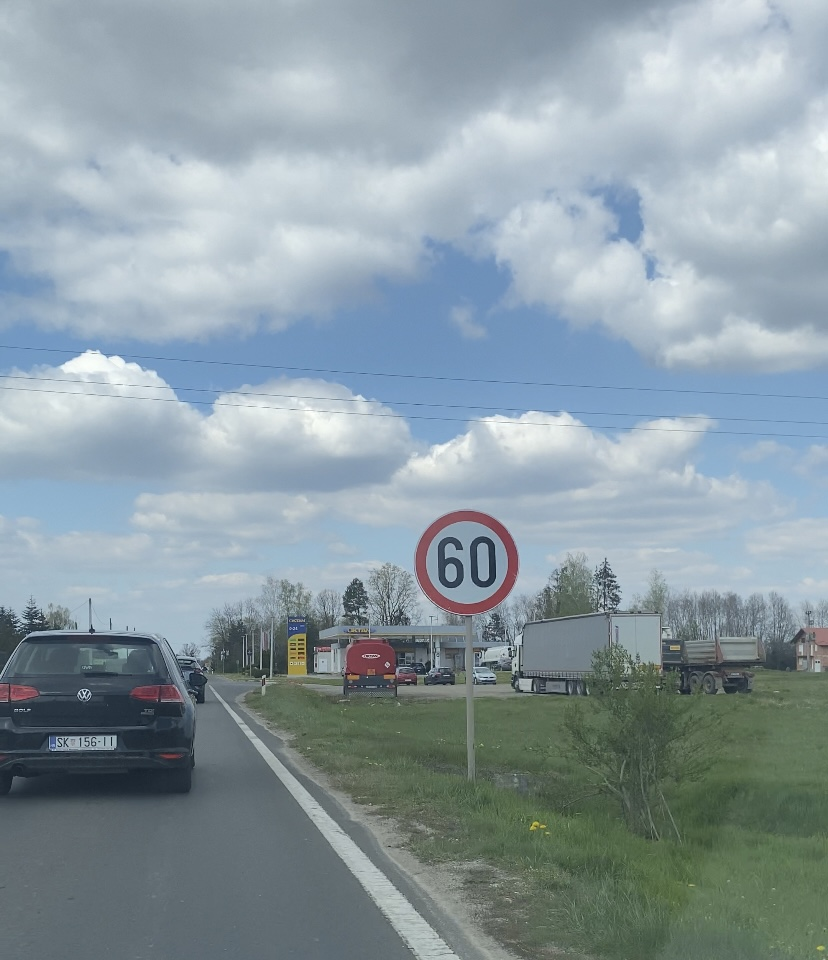Ograničenje brzine 60: (414, 510, 520, 615)
